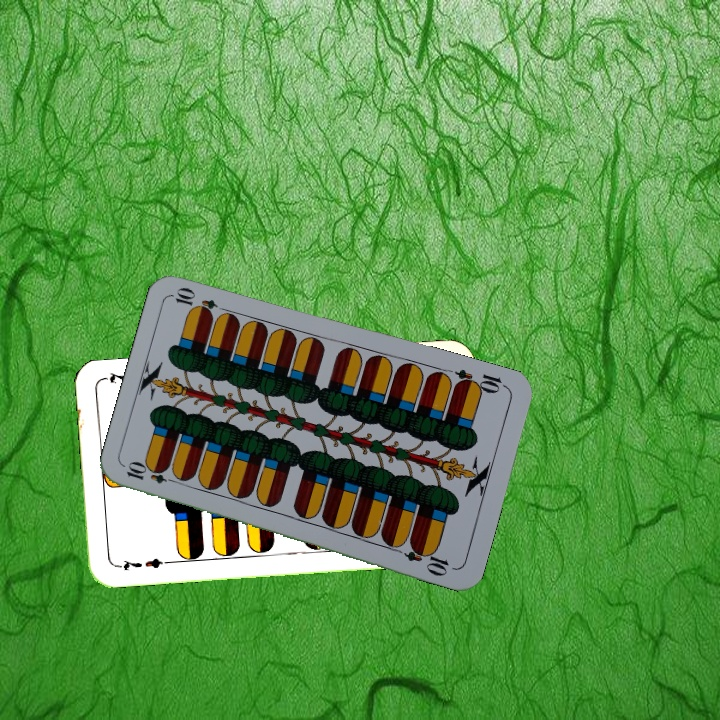E10: (451, 365, 510, 396), (122, 460, 181, 487)
E7: (112, 554, 171, 573)
